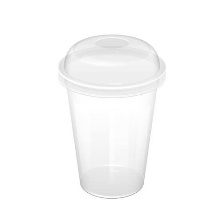glass: (48, 27, 178, 203)
